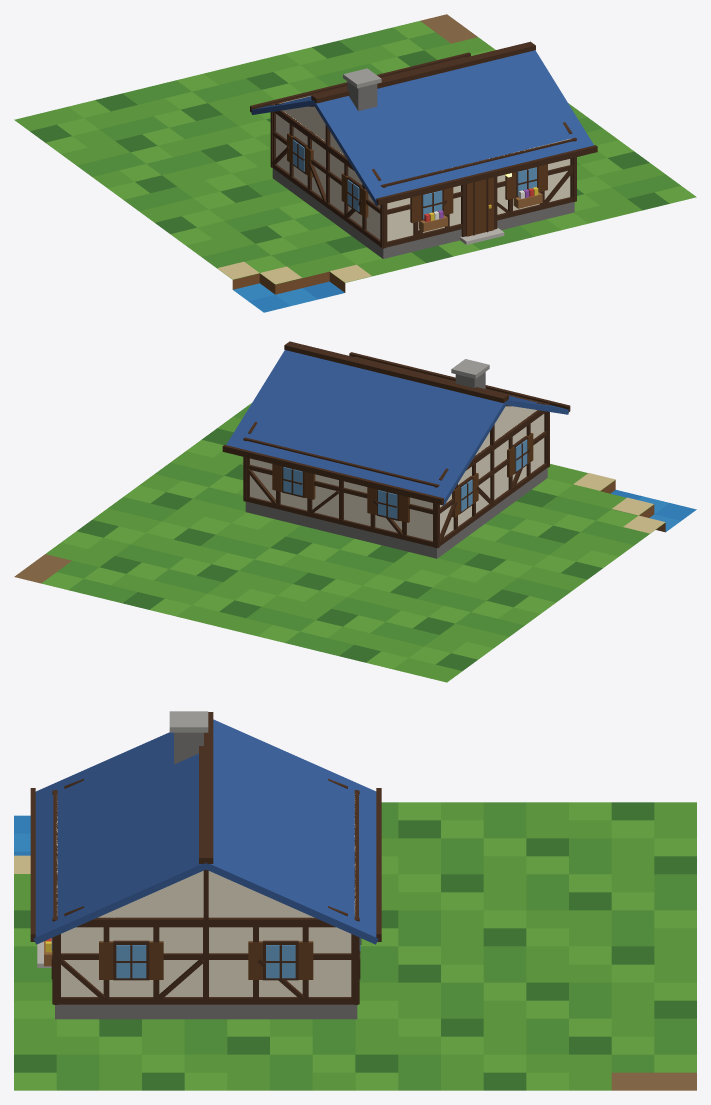
Rendered from chunk_5_14.glb.
3 views of the same model, one above another, from view 1: azimuth 30°, elevation 25°; view 2: azimuth 150°, elevation 25°; view 3: azimuth 270°, elevation 25° (orthographic). The views are drawn at different scales.
Parts seen in each view (by area): view 1: chunk_5_14; view 2: chunk_5_14; view 3: chunk_5_14.
Part boxes in pixels (bbox=[...]): chunk_5_14: bbox=[14, 14, 696, 312]; chunk_5_14: bbox=[14, 341, 696, 682]; chunk_5_14: bbox=[14, 711, 696, 1090].
Size of the model in its own units: 16 by 5.29 by 16.
